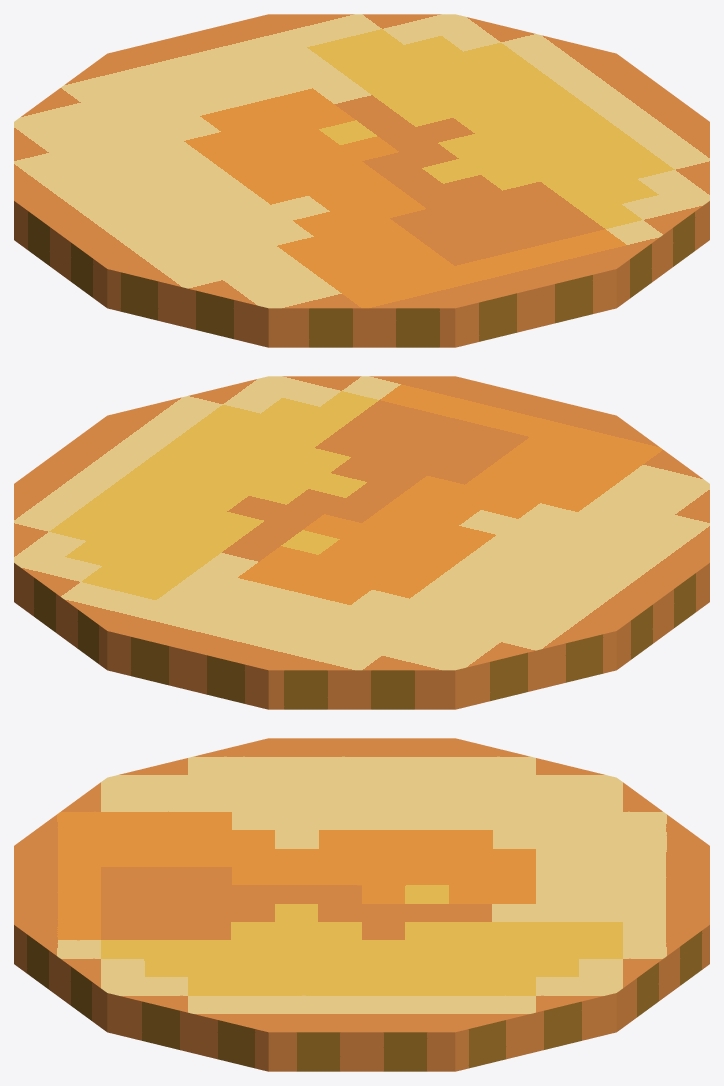
File: Coin.glb
The picture shows the model from 3 angles, top to bottom: view 1: azimuth 30°, elevation 25°; view 2: azimuth 150°, elevation 25°; view 3: azimuth 270°, elevation 25°; orthographic projection.
Visible parts, largest first — view 1: cylinder; view 2: cylinder; view 3: cylinder.
Boxes of the visible parts, bbox=[...] form: cylinder: bbox=[14, 14, 709, 347]; cylinder: bbox=[14, 376, 709, 709]; cylinder: bbox=[14, 738, 709, 1071].
Bounding box in the file's own units: 1 × 0.0625 × 1.
Materials: 1 (1 with a texture image).
